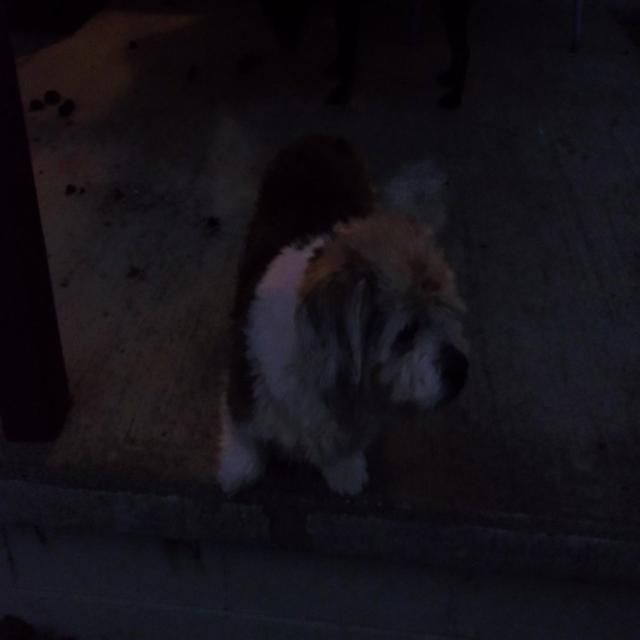Dog: (170, 151, 477, 536)
